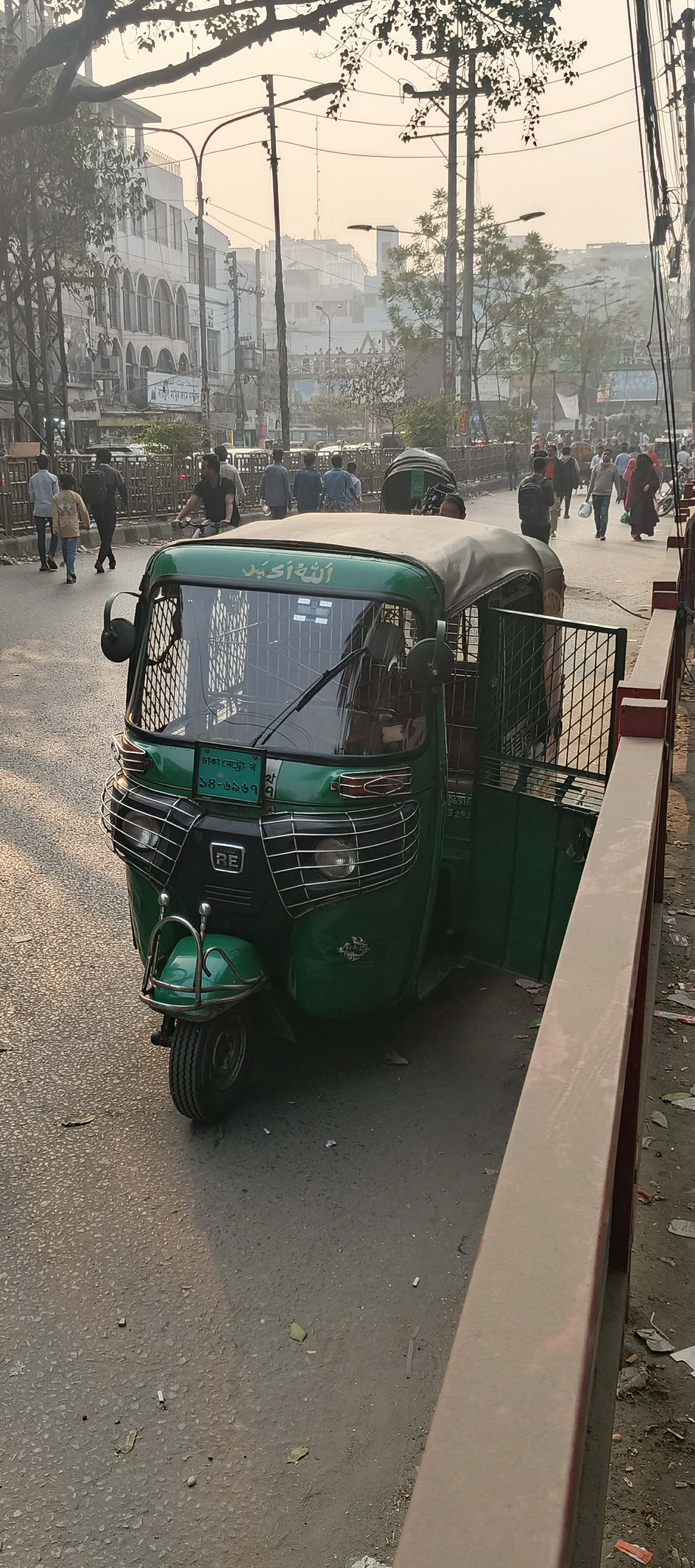cng: (129, 457, 624, 1140)
